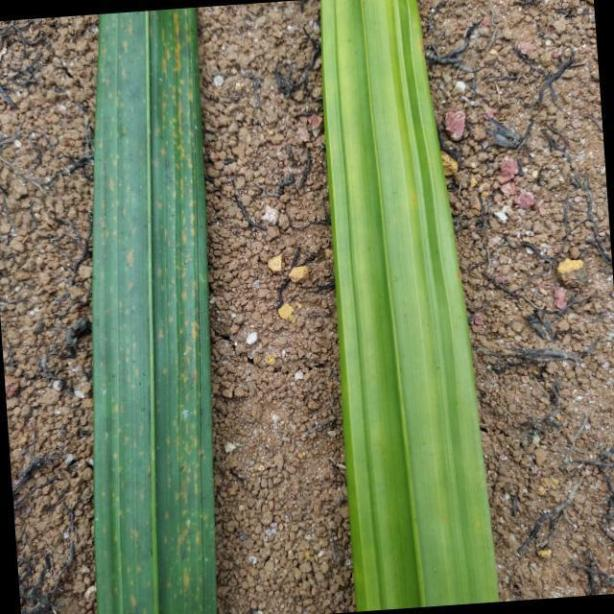nitrogen: (315, 0, 500, 610)
